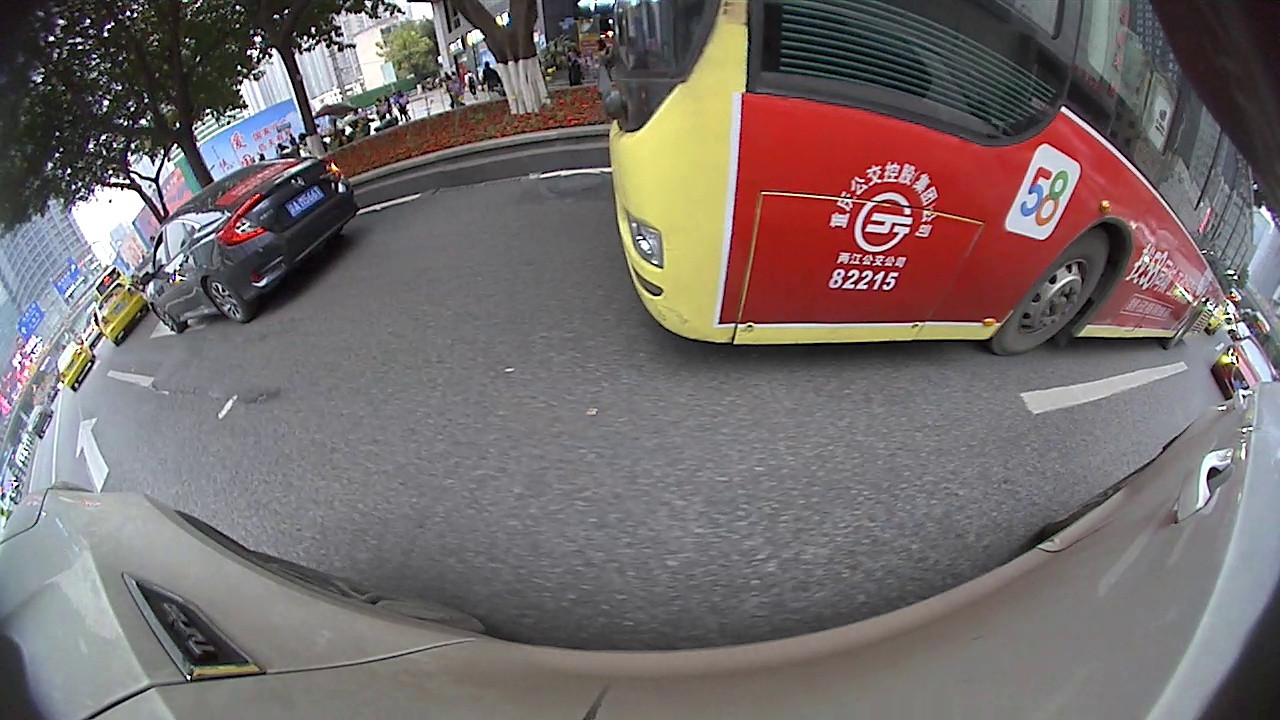bus: (600, 0, 1264, 362)
car: (140, 152, 362, 340), (1211, 331, 1277, 401), (90, 274, 152, 346), (52, 339, 99, 392)
front: (987, 223, 1115, 357), (146, 299, 186, 334)
rear: (202, 279, 256, 326), (1166, 303, 1207, 351)
